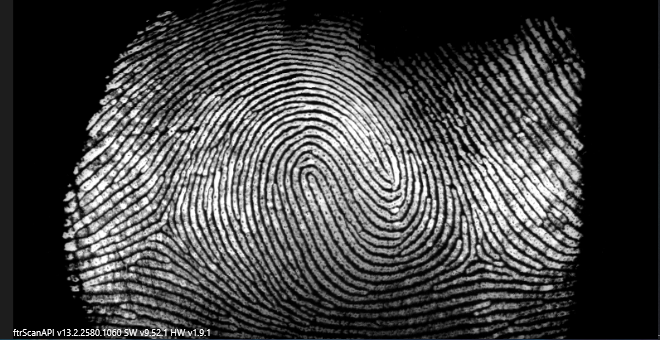deltas: (140, 200, 194, 257), (451, 230, 505, 283)
nucleo: (282, 132, 341, 202)
